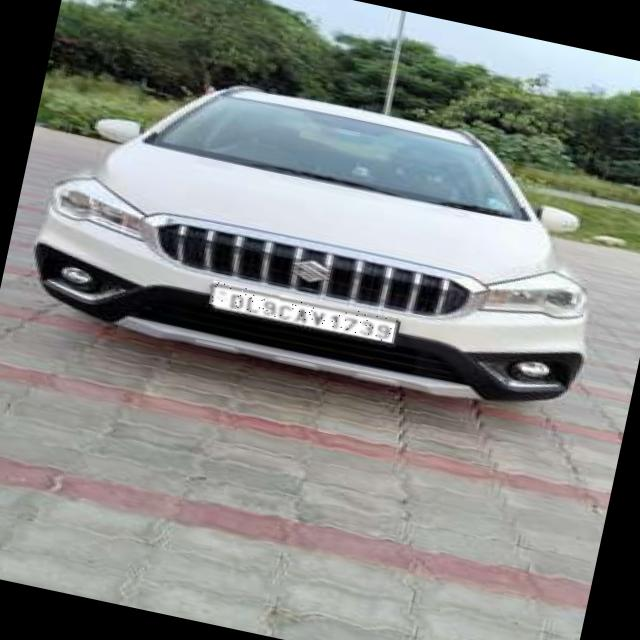Plate: (209, 281, 397, 343)
